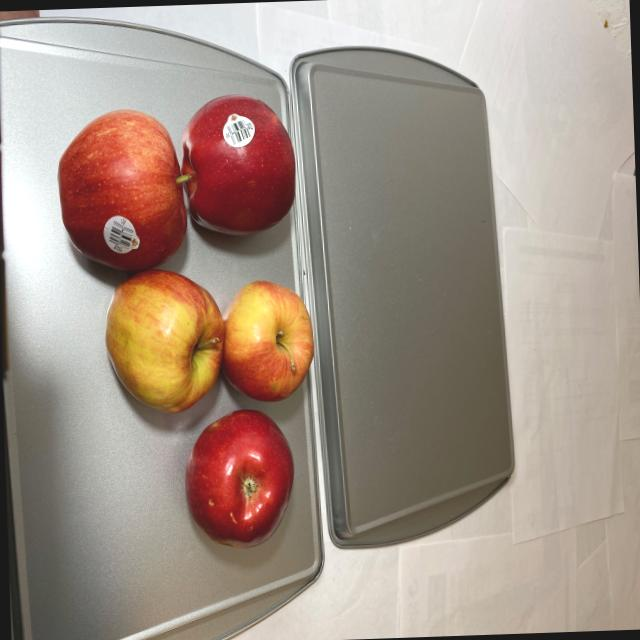apple: (53, 87, 320, 557)
